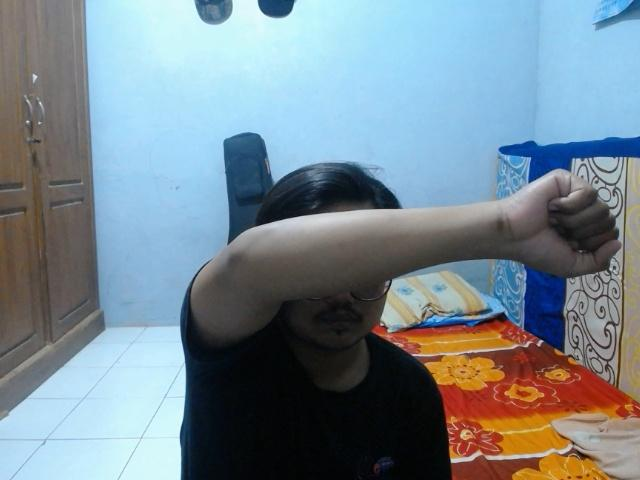Grab: (490, 167, 623, 279)
